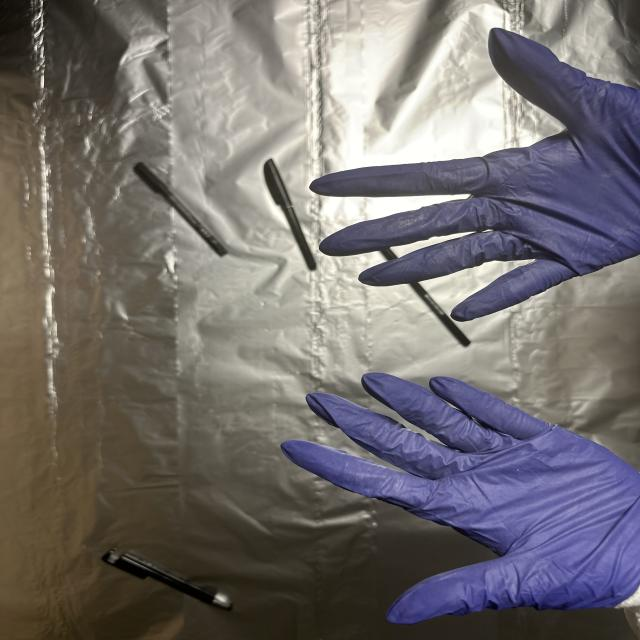gloves_contaminated: (310, 28, 640, 321), (282, 374, 640, 624)
